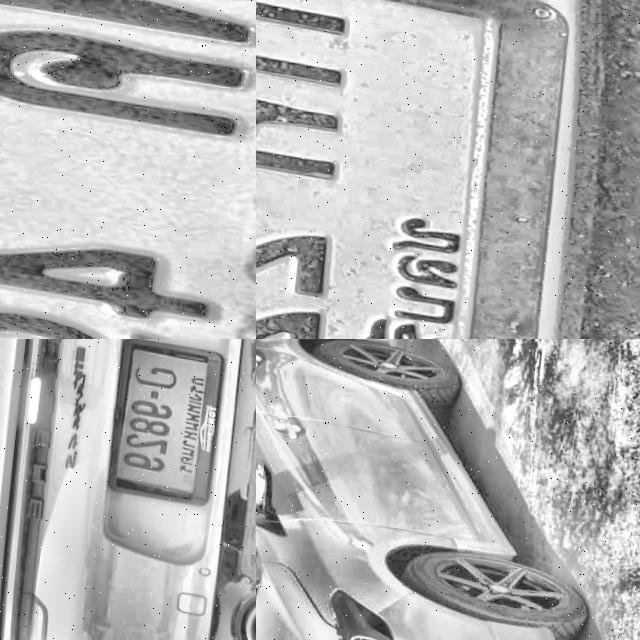license-plate: (256, 0, 580, 339), (0, 0, 256, 339), (93, 339, 232, 506)
